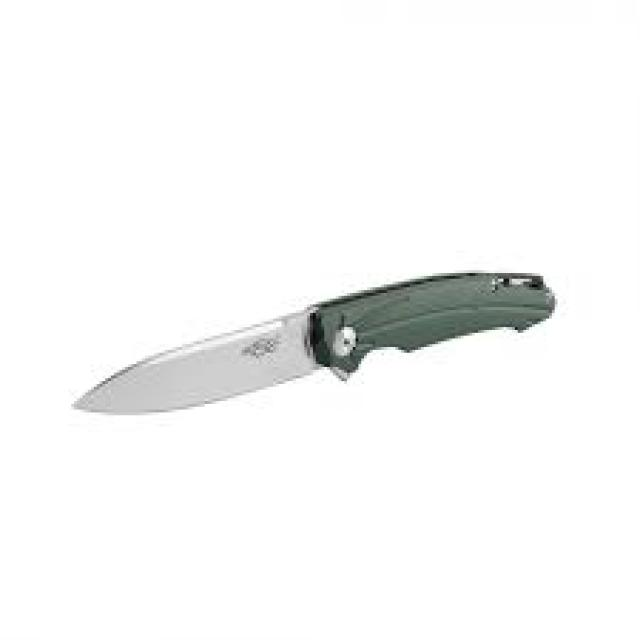knife: (65, 265, 563, 421)
